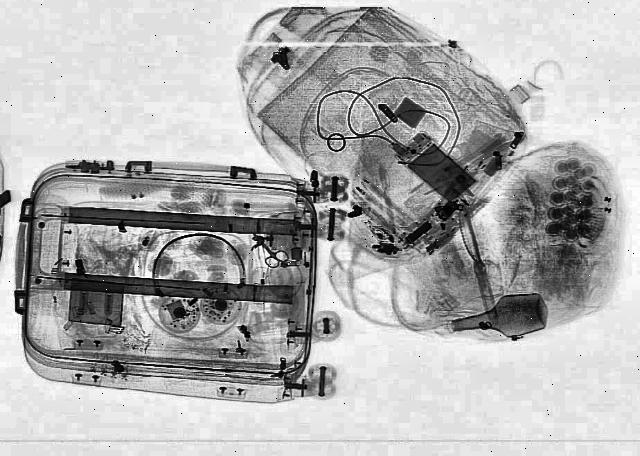Scissors: (240, 230, 292, 270)
